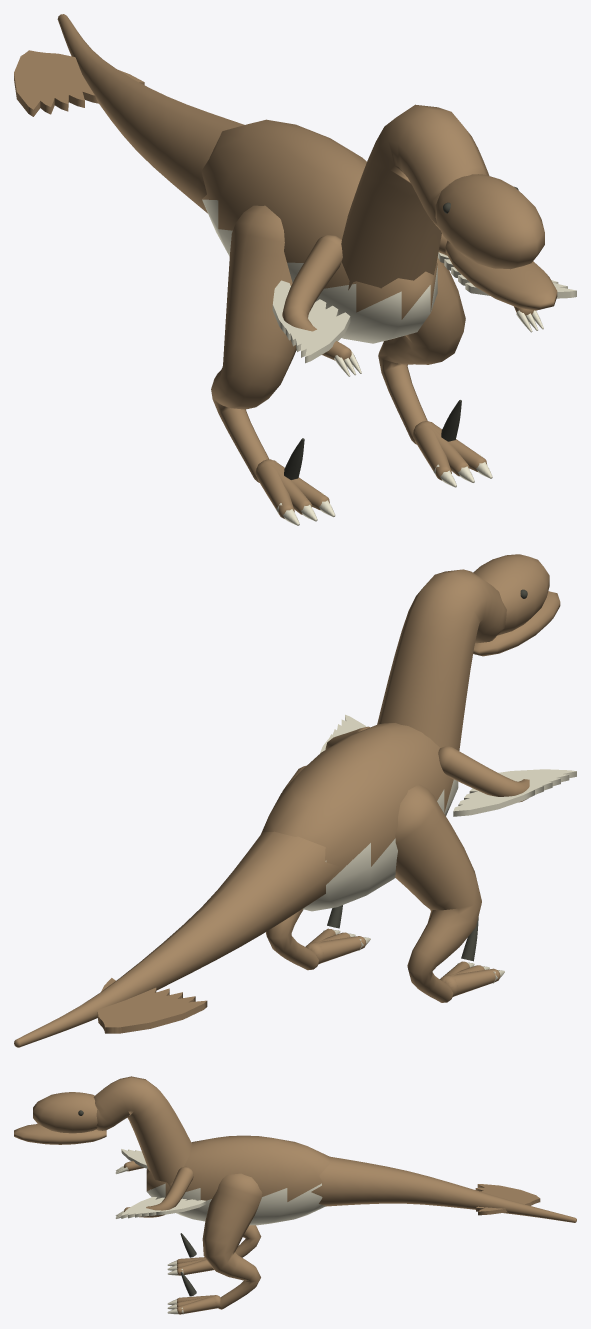
The model's file is deinonychus.glb.
3 renders of one model, top to bottom at view 1: azimuth 30°, elevation 25°; view 2: azimuth 150°, elevation 25°; view 3: azimuth 270°, elevation 25°, orthographic. The views are drawn at different scales.
Parts seen in each view (by area): view 1: deinonychus; view 2: deinonychus; view 3: deinonychus.
Part boxes in pixels (box(x1,y1,x2,y2)): deinonychus: box(14, 14, 576, 525); deinonychus: box(14, 554, 576, 1047); deinonychus: box(14, 1076, 576, 1314).
Size of the model in its own units: 0.9298 by 1.37 by 3.3.
